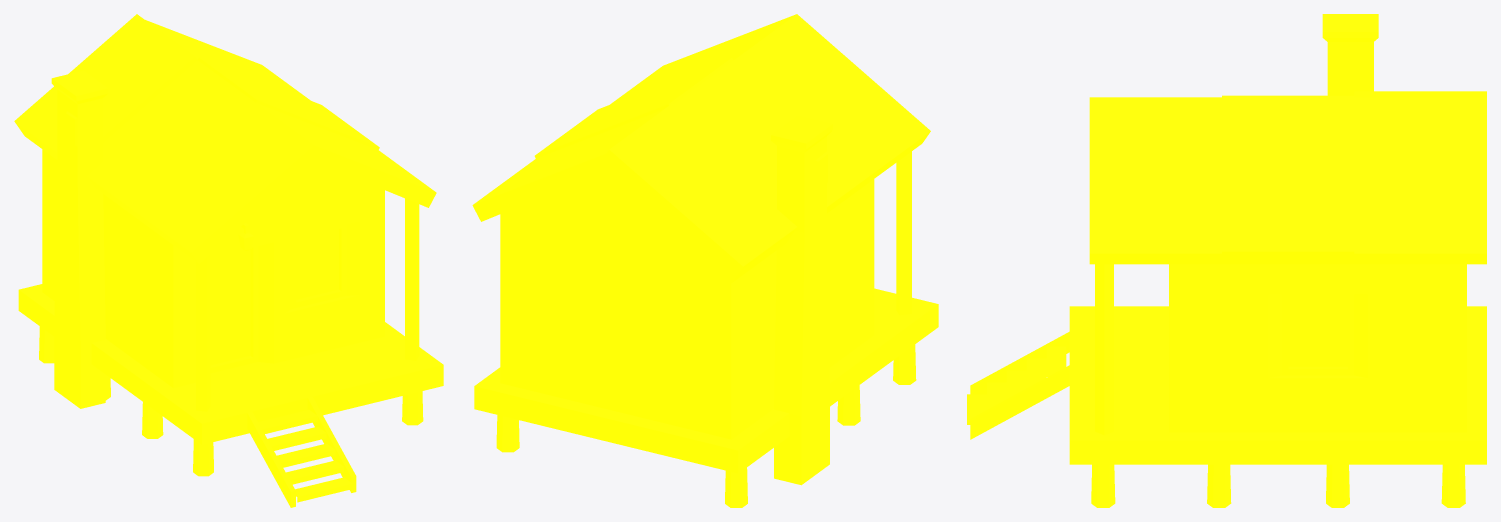
Rendered from building-cabin-small.glb.
3 renders of one model, left to right at view 1: azimuth 30°, elevation 25°; view 2: azimuth 150°, elevation 25°; view 3: azimuth 270°, elevation 25°, orthographic. The views are drawn at different scales.
Visible parts, largest first — view 1: building-cabin-small; view 2: building-cabin-small; view 3: building-cabin-small.
Boxes of the visible parts, <box> form: building-cabin-small: <box>14,14,443,507</box>; building-cabin-small: <box>472,14,938,507</box>; building-cabin-small: <box>967,14,1486,507</box>.
Bounding box in the file's own units: 4.38 × 5.05 × 6.67.
Materials: 1 (1 with a texture image).
